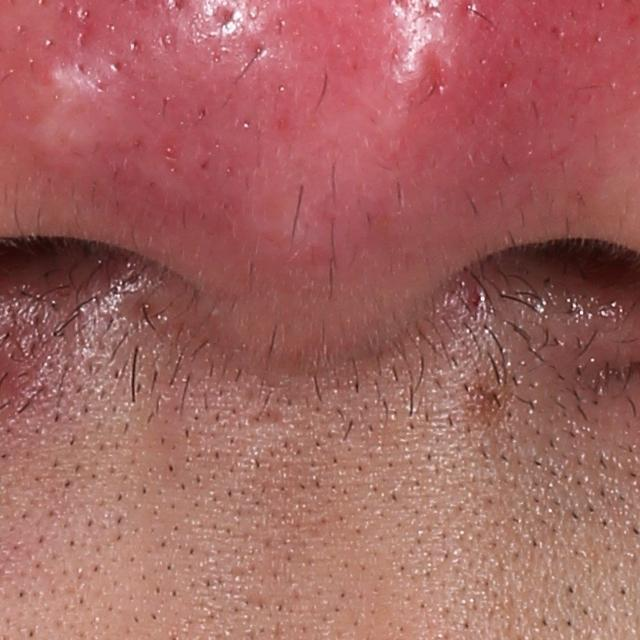atrophic_scar: (244, 402, 287, 427)
hypertrophic_scar: (13, 60, 101, 172)
